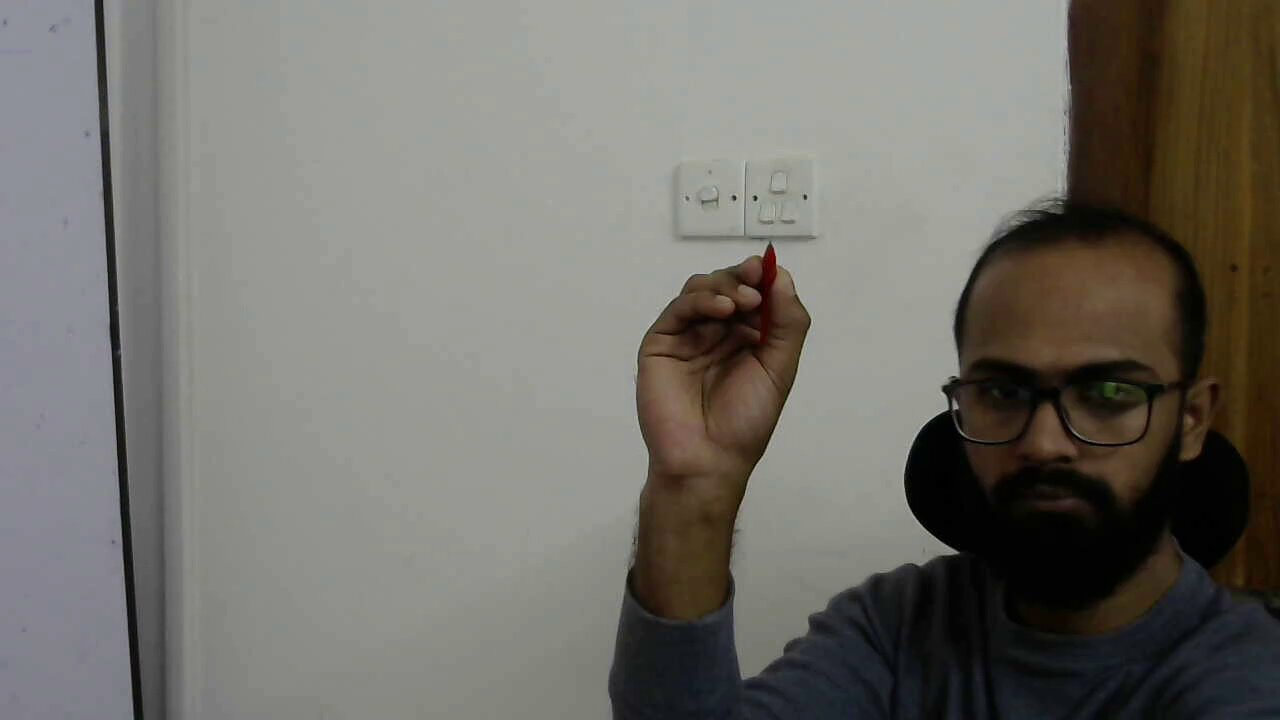pointer: (648, 238, 816, 379)
